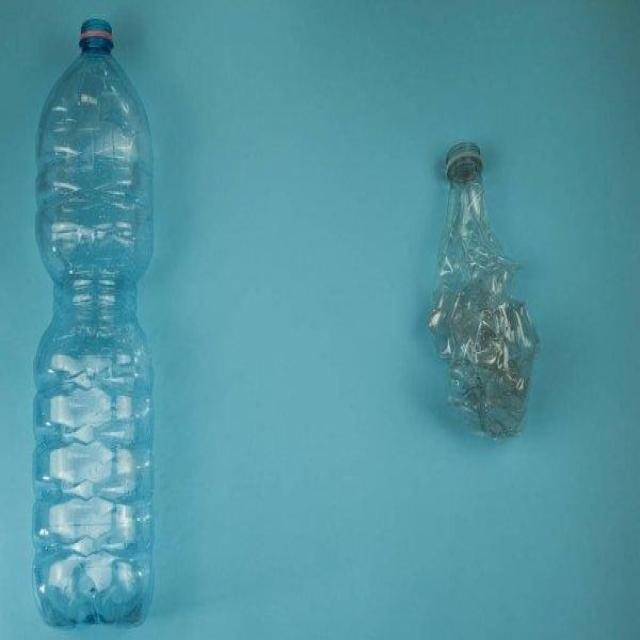bottle: (29, 14, 175, 629), (419, 104, 546, 456)
